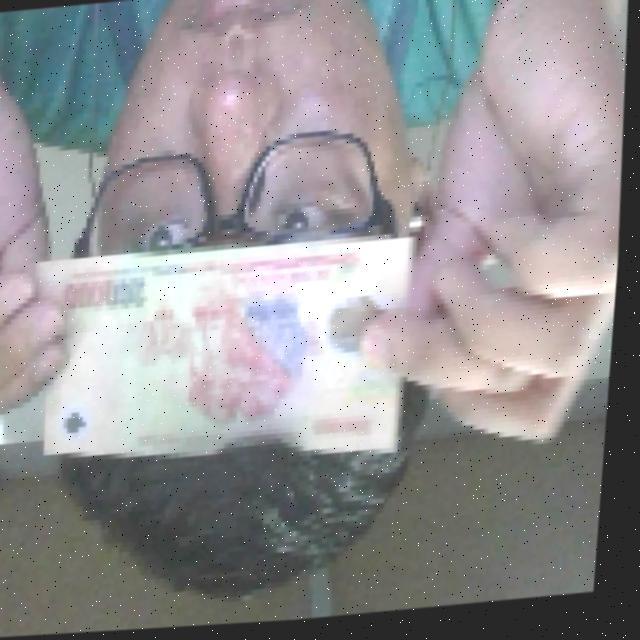200 000 VND: (26, 230, 432, 491)
